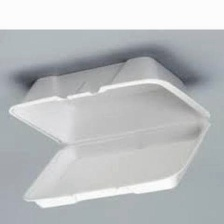foam_box: (2, 51, 215, 213)
